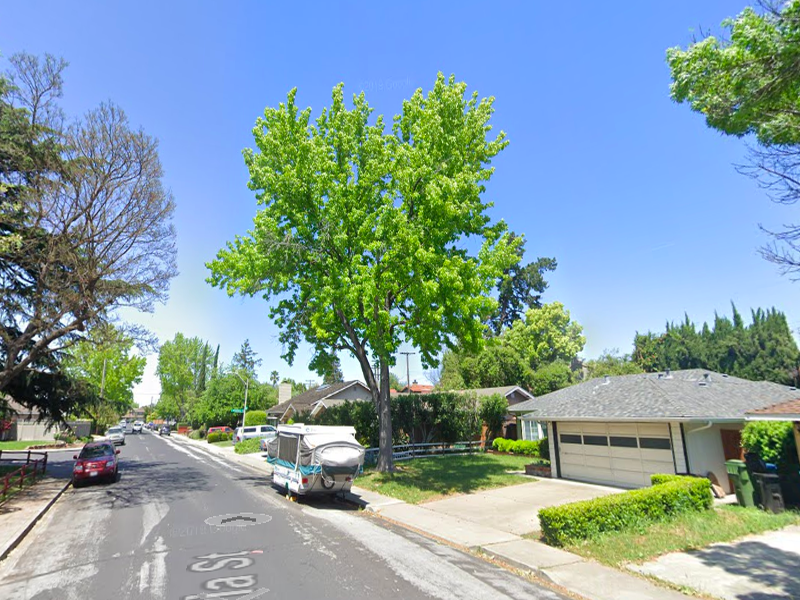tree: (205, 68, 529, 484)
